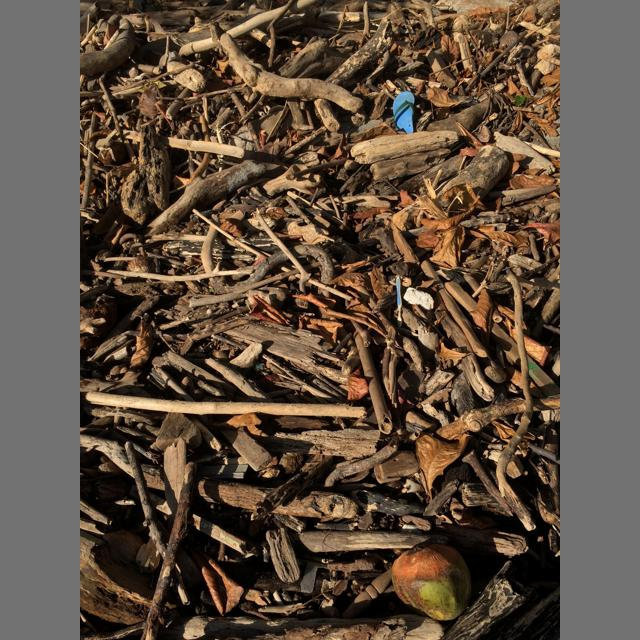litter: (393, 91, 415, 134), (404, 287, 434, 310), (396, 276, 402, 327)
